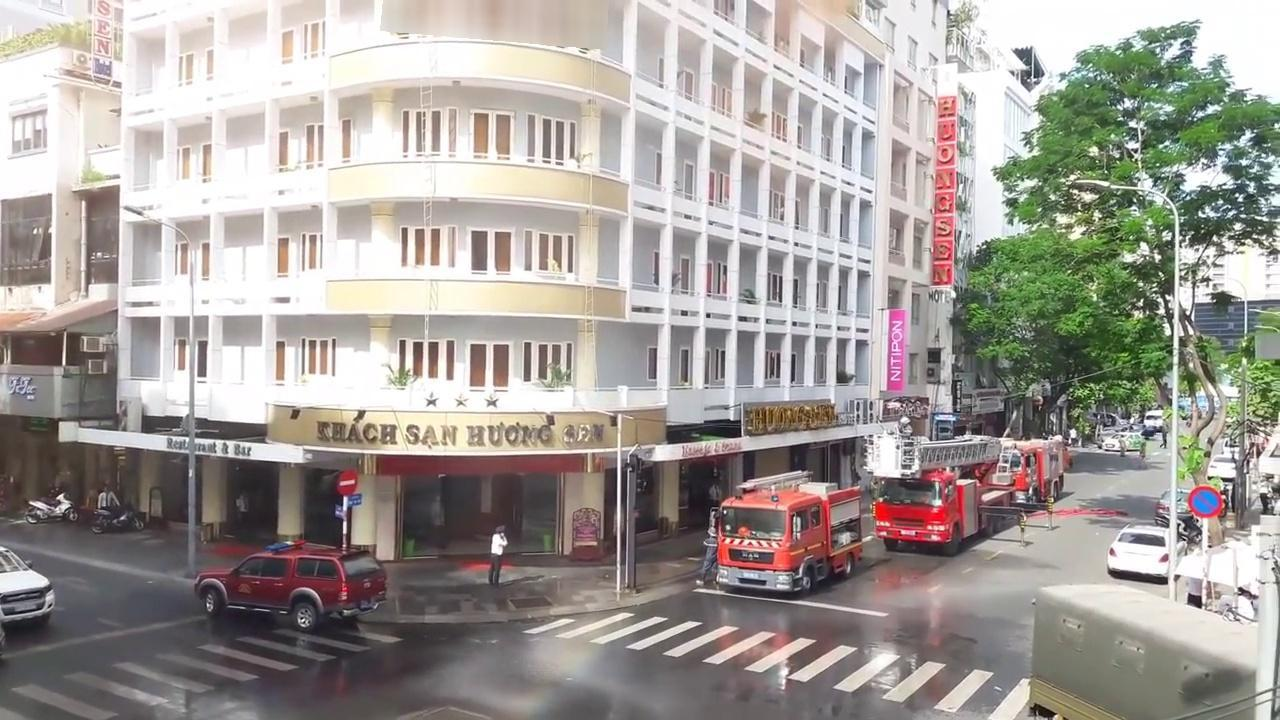xe cuu hoa: (715, 469, 860, 592), (868, 435, 1015, 554)
xe hoi: (194, 537, 385, 631), (0, 545, 53, 620), (1105, 521, 1166, 576)
